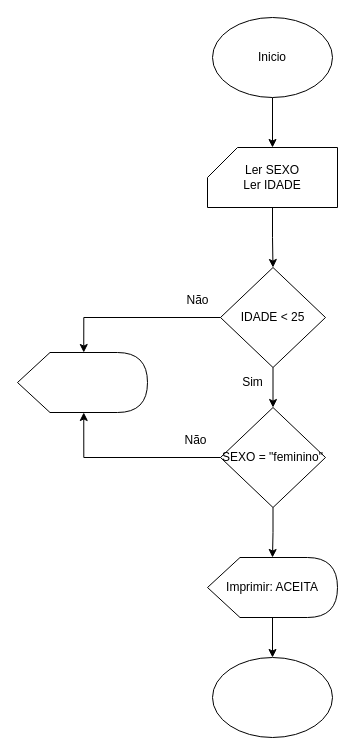
The diagram is 355 pixels wide and 755 high, and some of its shapes have lost their labels. The shapes that lost their labels are listed below. From the top down, each one's box as (x1, y1, x2, y2) in pixels, then its label:
(16, 352, 148, 412): Imprimir: NÃO ACEITA
(212, 656, 332, 738): Fim
